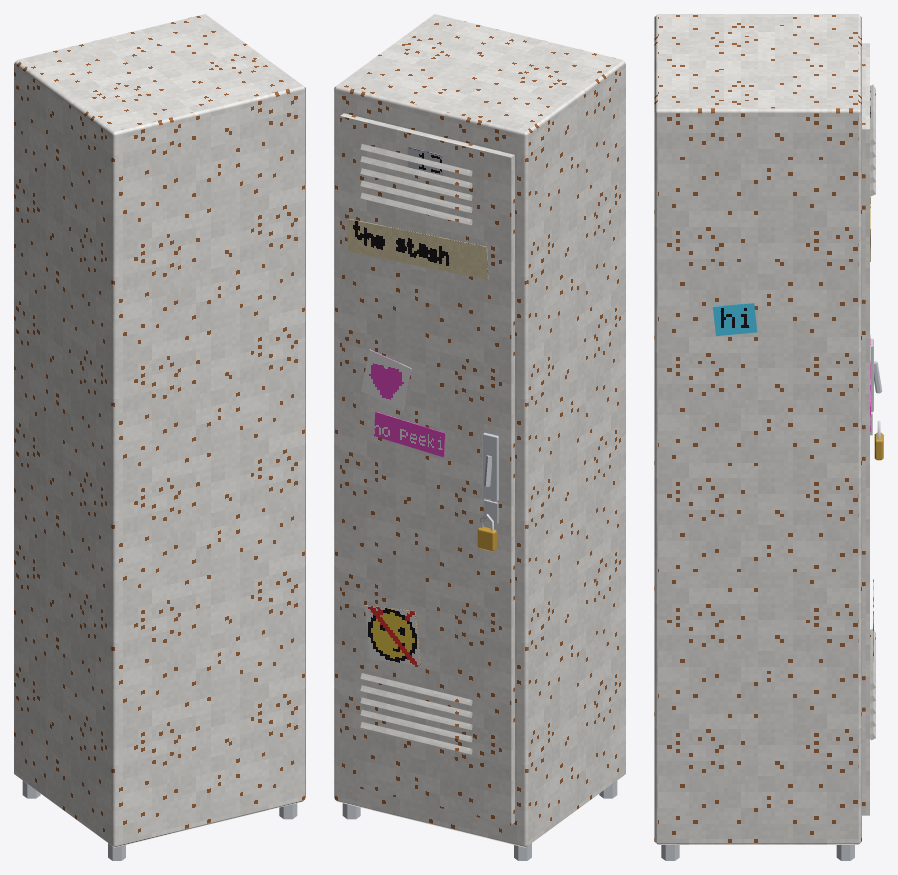
File: s_locker.glb
3 views of the same model, side by side, from view 1: azimuth 30°, elevation 25°; view 2: azimuth 150°, elevation 25°; view 3: azimuth 270°, elevation 25° (orthographic). The views are drawn at different scales.
Parts seen in each view (by area): view 1: s_locker_mesh; view 2: s_locker_mesh; view 3: s_locker_mesh.
Part boxes in pixels (<box>): s_locker_mesh: <box>14,14,305,860</box>; s_locker_mesh: <box>334,14,625,860</box>; s_locker_mesh: <box>654,14,883,860</box>.
Size of what is drawn, in the model's own units: 0.5025 by 1.8 by 0.497.
Materials: 3 (3 with a texture image).
